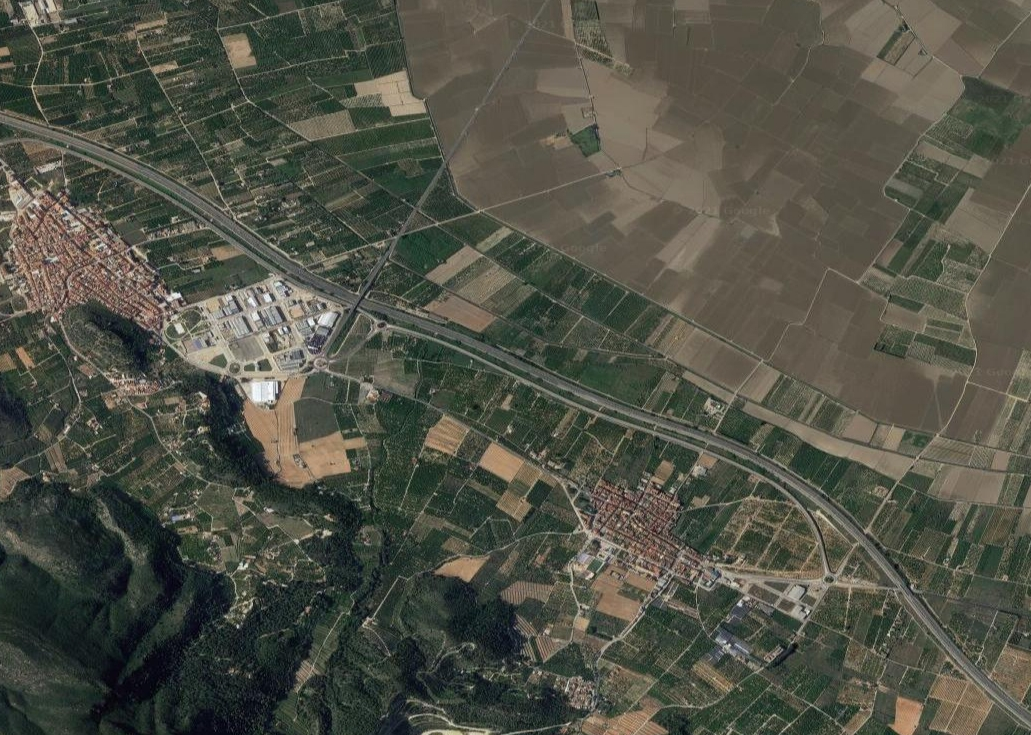bridge: (349, 288, 368, 310)
industrial: (174, 281, 349, 400)
motorway: (898, 590, 1031, 730), (240, 228, 370, 318), (373, 297, 526, 369), (673, 427, 814, 502), (813, 496, 915, 588), (522, 368, 671, 429), (129, 158, 240, 233), (1, 111, 128, 163)
